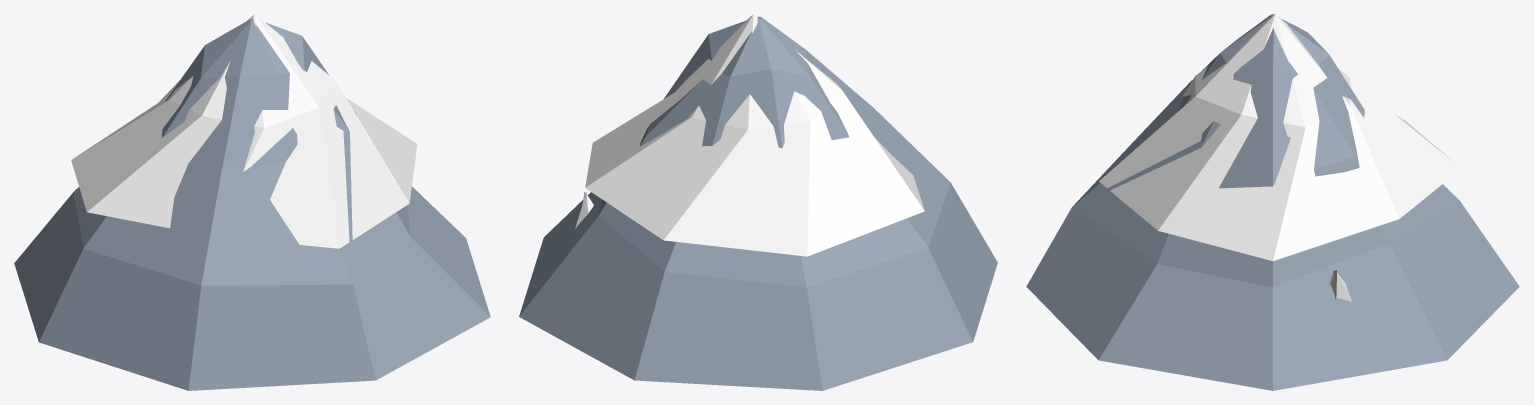
File: peak.glb
3 views of the same model, side by side, from view 1: azimuth 30°, elevation 25°; view 2: azimuth 150°, elevation 25°; view 3: azimuth 270°, elevation 25° (orthographic).
Visible parts, largest first — view 1: PkBody, PkSnow; view 2: PkBody, PkSnow; view 3: PkBody, PkSnow.
Part boxes in pixels (x1,y1,x2,y2): PkBody: (14, 18, 490, 390); PkSnow: (71, 14, 417, 248); PkBody: (519, 16, 997, 390); PkSnow: (585, 14, 924, 256); PkBody: (1026, 14, 1519, 390); PkSnow: (1099, 14, 1461, 260).
Size of the model in its own units: 11.6 by 7.32 by 11.6.
